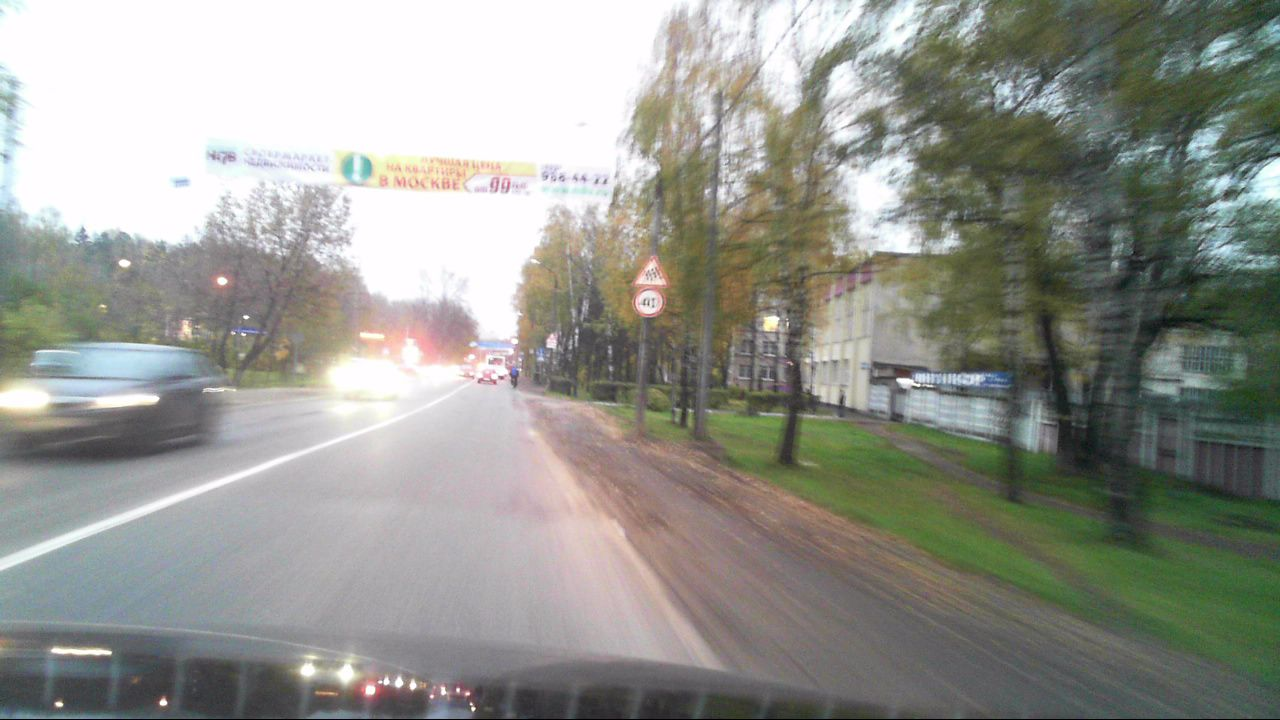speed_warning_40: (633, 288, 664, 319)
